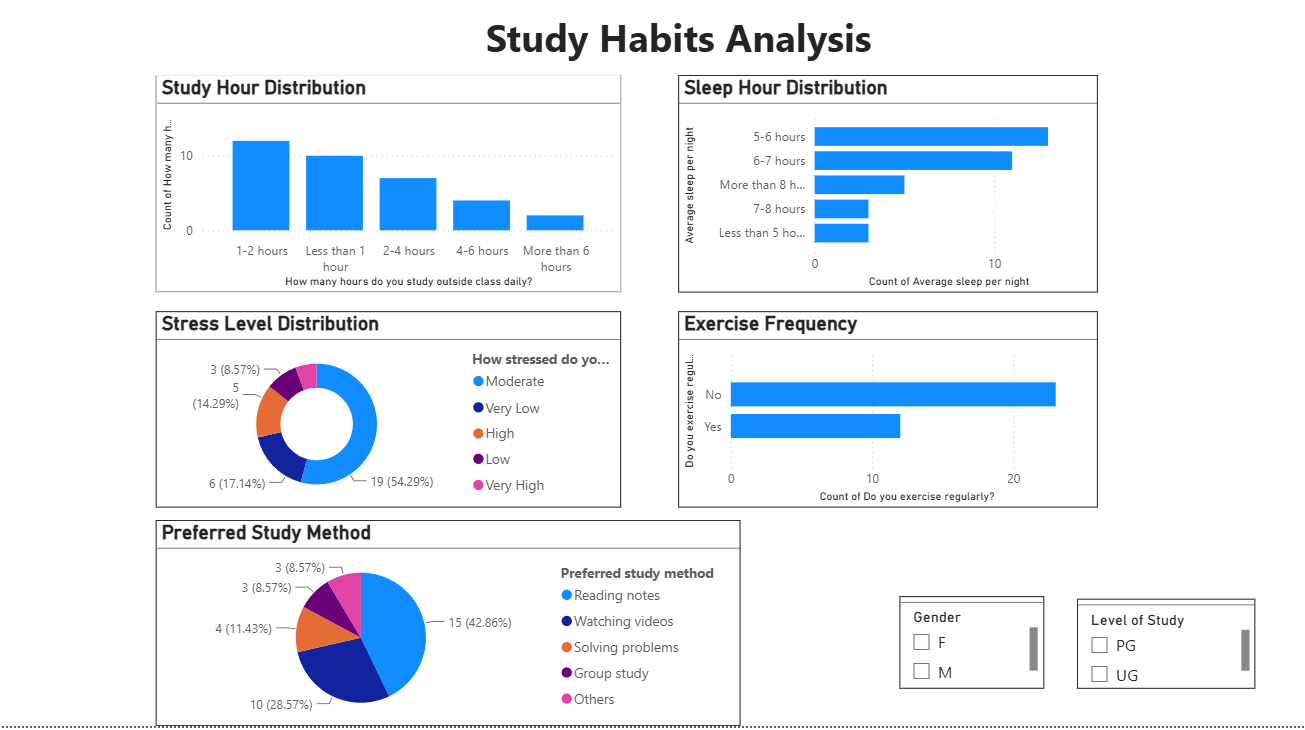

Layout of this report page (visuals, bound fields, positions):
{"tool":"powerbi","page":{"name":"Study Habit Analysis","canvas":[1280,720],"ordinal":1},"visuals":[{"type":"clusteredColumnChart","title":"Study Hour Distribution","fields":{"Category":["Study Habits Analysis (2).How many hours do you study outside class daily?  "],"Y":["CountNonNull(Study Habits Analysis (2).How many hours do you study outside class daily?  )"]},"box":[155.1,83.7,455.6,212.7],"z":0},{"type":"clusteredBarChart","title":"Sleep Hour Distribution","fields":{"Category":["Study Habits Analysis (2).Average sleep per night  "],"Y":["CountNonNull(Study Habits Analysis (2).Average sleep per night  )"]},"box":[666.9,83.7,410.3,212.7],"z":1000},{"type":"donutChart","title":"Stress Level Distribution","fields":{"Category":["Study Habits Analysis (2).How stressed do you feel during a typical semester?  "],"Y":["CountNonNull(Study Habits Analysis (2).How stressed do you feel during a typical semester?  )"]},"box":[155.1,314.2,455.6,192.1],"z":2000},{"type":"textbox","box":[67.2,16.5,1199.3,67.2],"z":3000},{"type":"clusteredBarChart","title":"Exercise Frequency","fields":{"Category":["Study Habits Analysis (2).Do you exercise regularly?  "],"Y":["CountNonNull(Study Habits Analysis (2).Do you exercise regularly?  )"]},"box":[666.9,314.2,410.3,192.1],"z":4000},{"type":"pieChart","title":"Preferred Study Method","fields":{"Category":["Study Habits Analysis (2).Preferred study method  "],"Y":["CountNonNull(Study Habits Analysis (2).Preferred study method  )"]},"box":[155.1,518.7,572.2,201.7],"z":5000},{"type":"slicer","fields":{"Values":["Study Habits Analysis (2).Level of Study  "]},"box":[1056.6,595.5,174.3,87.8],"z":6000},{"type":"slicer","fields":{"Values":["Study Habits Analysis (2).Gender"]},"box":[882.3,592.8,141.3,90.6],"z":7000}]}

Visuals, with their boxes in screenshot pixels (x1, y1, x2, y2), scaled from the page's 1280x720 canvas onto the 1305x730 screenshot:
"Study Hour Distribution" clusteredColumnChart: (158, 85, 623, 301)
"Sleep Hour Distribution" clusteredBarChart: (680, 85, 1098, 301)
"Stress Level Distribution" donutChart: (158, 319, 623, 513)
textbox: (69, 17, 1291, 85)
"Exercise Frequency" clusteredBarChart: (680, 319, 1098, 513)
"Preferred Study Method" pieChart: (158, 526, 742, 729)
slicer - Study Habits Analysis (2).Level of Study  : (1077, 604, 1255, 693)
slicer - Study Habits Analysis (2).Gender: (900, 601, 1044, 693)
